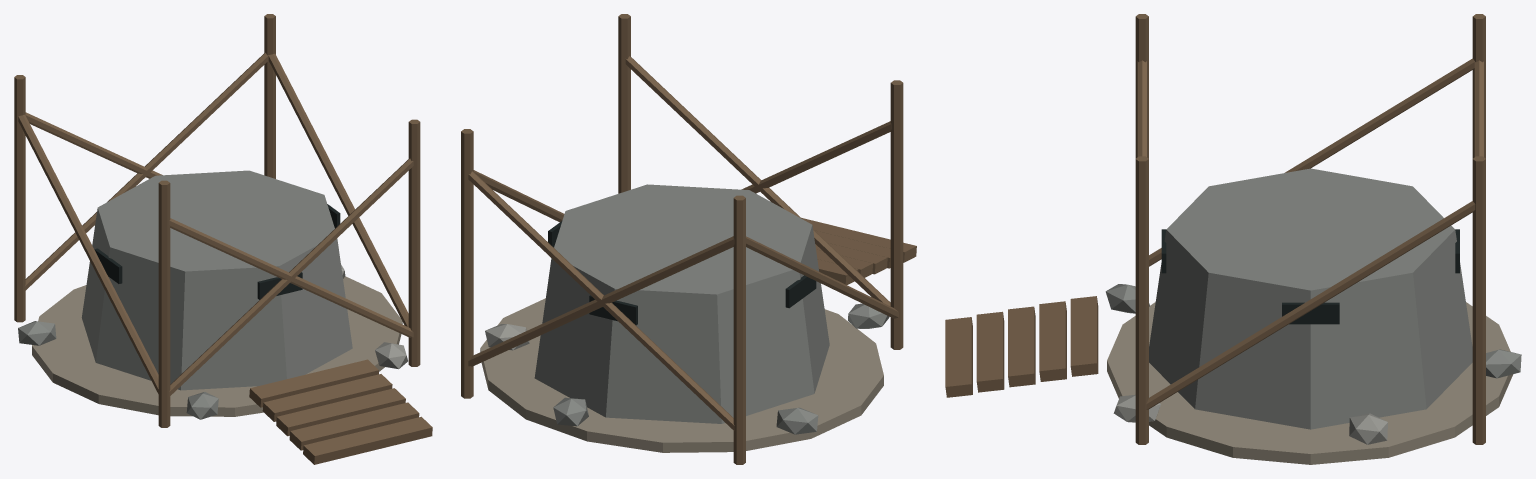
The model's file is pillbox-construction.glb.
3 renders of one model, left to right at view 1: azimuth 30°, elevation 25°; view 2: azimuth 150°, elevation 25°; view 3: azimuth 270°, elevation 25°, orthographic. The views are drawn at different scales.
Visible parts, largest first — view 1: TH_PillboxSite_HalfShell, TH_PillboxSite_Ground, TH_PillboxSite_ScaffoldPost_0, TH_PillboxSite_ScaffoldPost_1, TH_PillboxSite_Brace_0, TH_PillboxSite_Brace_4, TH_PillboxSite_ScaffoldPost_2, TH_PillboxSite_Brace_5, TH_PillboxSite_RampPlank_4, TH_PillboxSite_Brace_2, TH_PillboxSite_Brace_1, TH_PillboxSite_RampPlank_3 (+10 smaller); view 2: TH_PillboxSite_HalfShell, TH_PillboxSite_Ground, TH_PillboxSite_ScaffoldPost_0, TH_PillboxSite_ScaffoldPost_2, TH_PillboxSite_Brace_2, TH_PillboxSite_ScaffoldPost_3, TH_PillboxSite_Brace_0, TH_PillboxSite_Brace_3, TH_PillboxSite_ScaffoldPost_1, TH_PillboxSite_Brace_4, TH_PillboxSite_Brace_1, TH_PillboxSite_RampPlank_4 (+10 smaller); view 3: TH_PillboxSite_HalfShell, TH_PillboxSite_Ground, TH_PillboxSite_Brace_5, TH_PillboxSite_ScaffoldPost_1, TH_PillboxSite_ScaffoldPost_3, TH_PillboxSite_Brace_4, TH_PillboxSite_RampPlank_0, TH_PillboxSite_RampPlank_3, TH_PillboxSite_RampPlank_1, TH_PillboxSite_RampPlank_2, TH_PillboxSite_RampPlank_4, TH_PillboxSite_ScaffoldPost_0 (+8 smaller).
Boxes of the visible parts, left/top/right/bottom form: TH_PillboxSite_HalfShell: left=81, top=170, right=352, bottom=390; TH_PillboxSite_Ground: left=32, top=276, right=402, bottom=416; TH_PillboxSite_ScaffoldPost_0: left=158, top=180, right=170, bottom=427; TH_PillboxSite_ScaffoldPost_1: left=408, top=119, right=420, bottom=366; TH_PillboxSite_Brace_0: left=169, top=158, right=413, bottom=396; TH_PillboxSite_Brace_4: left=18, top=114, right=158, bottom=393; TH_PillboxSite_ScaffoldPost_2: left=14, top=75, right=25, bottom=322; TH_PillboxSite_Brace_5: left=268, top=53, right=408, bottom=326; TH_PillboxSite_RampPlank_4: left=303, top=416, right=432, bottom=464; TH_PillboxSite_Brace_2: left=24, top=52, right=268, bottom=291; TH_PillboxSite_Brace_1: left=169, top=218, right=413, bottom=337; TH_PillboxSite_RampPlank_3: left=289, top=402, right=419, bottom=450; TH_PillboxSite_HalfShell: left=534, top=184, right=829, bottom=423; TH_PillboxSite_Ground: left=480, top=298, right=883, bottom=452; TH_PillboxSite_ScaffoldPost_0: left=890, top=80, right=903, bottom=349; TH_PillboxSite_ScaffoldPost_2: left=733, top=195, right=745, bottom=464; TH_PillboxSite_Brace_2: left=468, top=171, right=734, bottom=430; TH_PillboxSite_ScaffoldPost_3: left=461, top=129, right=473, bottom=398; TH_PillboxSite_Brace_0: left=625, top=56, right=890, bottom=306; TH_PillboxSite_Brace_3: left=468, top=236, right=734, bottom=366; TH_PillboxSite_ScaffoldPost_1: left=618, top=14, right=630, bottom=193; TH_PillboxSite_Brace_4: left=746, top=236, right=898, bottom=318; TH_PillboxSite_Brace_1: left=741, top=121, right=891, bottom=193; TH_PillboxSite_RampPlank_4: left=801, top=217, right=916, bottom=262; TH_PillboxSite_HalfShell: left=1149, top=168, right=1472, bottom=429; TH_PillboxSite_Ground: left=1107, top=302, right=1512, bottom=464; TH_PillboxSite_Brace_5: left=1146, top=201, right=1475, bottom=409; TH_PillboxSite_ScaffoldPost_1: left=1135, top=156, right=1148, bottom=444; TH_PillboxSite_ScaffoldPost_3: left=1472, top=156, right=1485, bottom=444; TH_PillboxSite_Brace_4: left=1149, top=58, right=1474, bottom=266; TH_PillboxSite_RampPlank_0: left=1070, top=296, right=1098, bottom=376; TH_PillboxSite_RampPlank_3: left=976, top=311, right=1004, bottom=392; TH_PillboxSite_RampPlank_1: left=1039, top=301, right=1066, bottom=381; TH_PillboxSite_RampPlank_2: left=1008, top=306, right=1035, bottom=387; TH_PillboxSite_RampPlank_4: left=945, top=317, right=972, bottom=397; TH_PillboxSite_ScaffoldPost_0: left=1135, top=14, right=1148, bottom=158.
Size of the model in its own units: 0.92 by 0.65 by 1.2.
